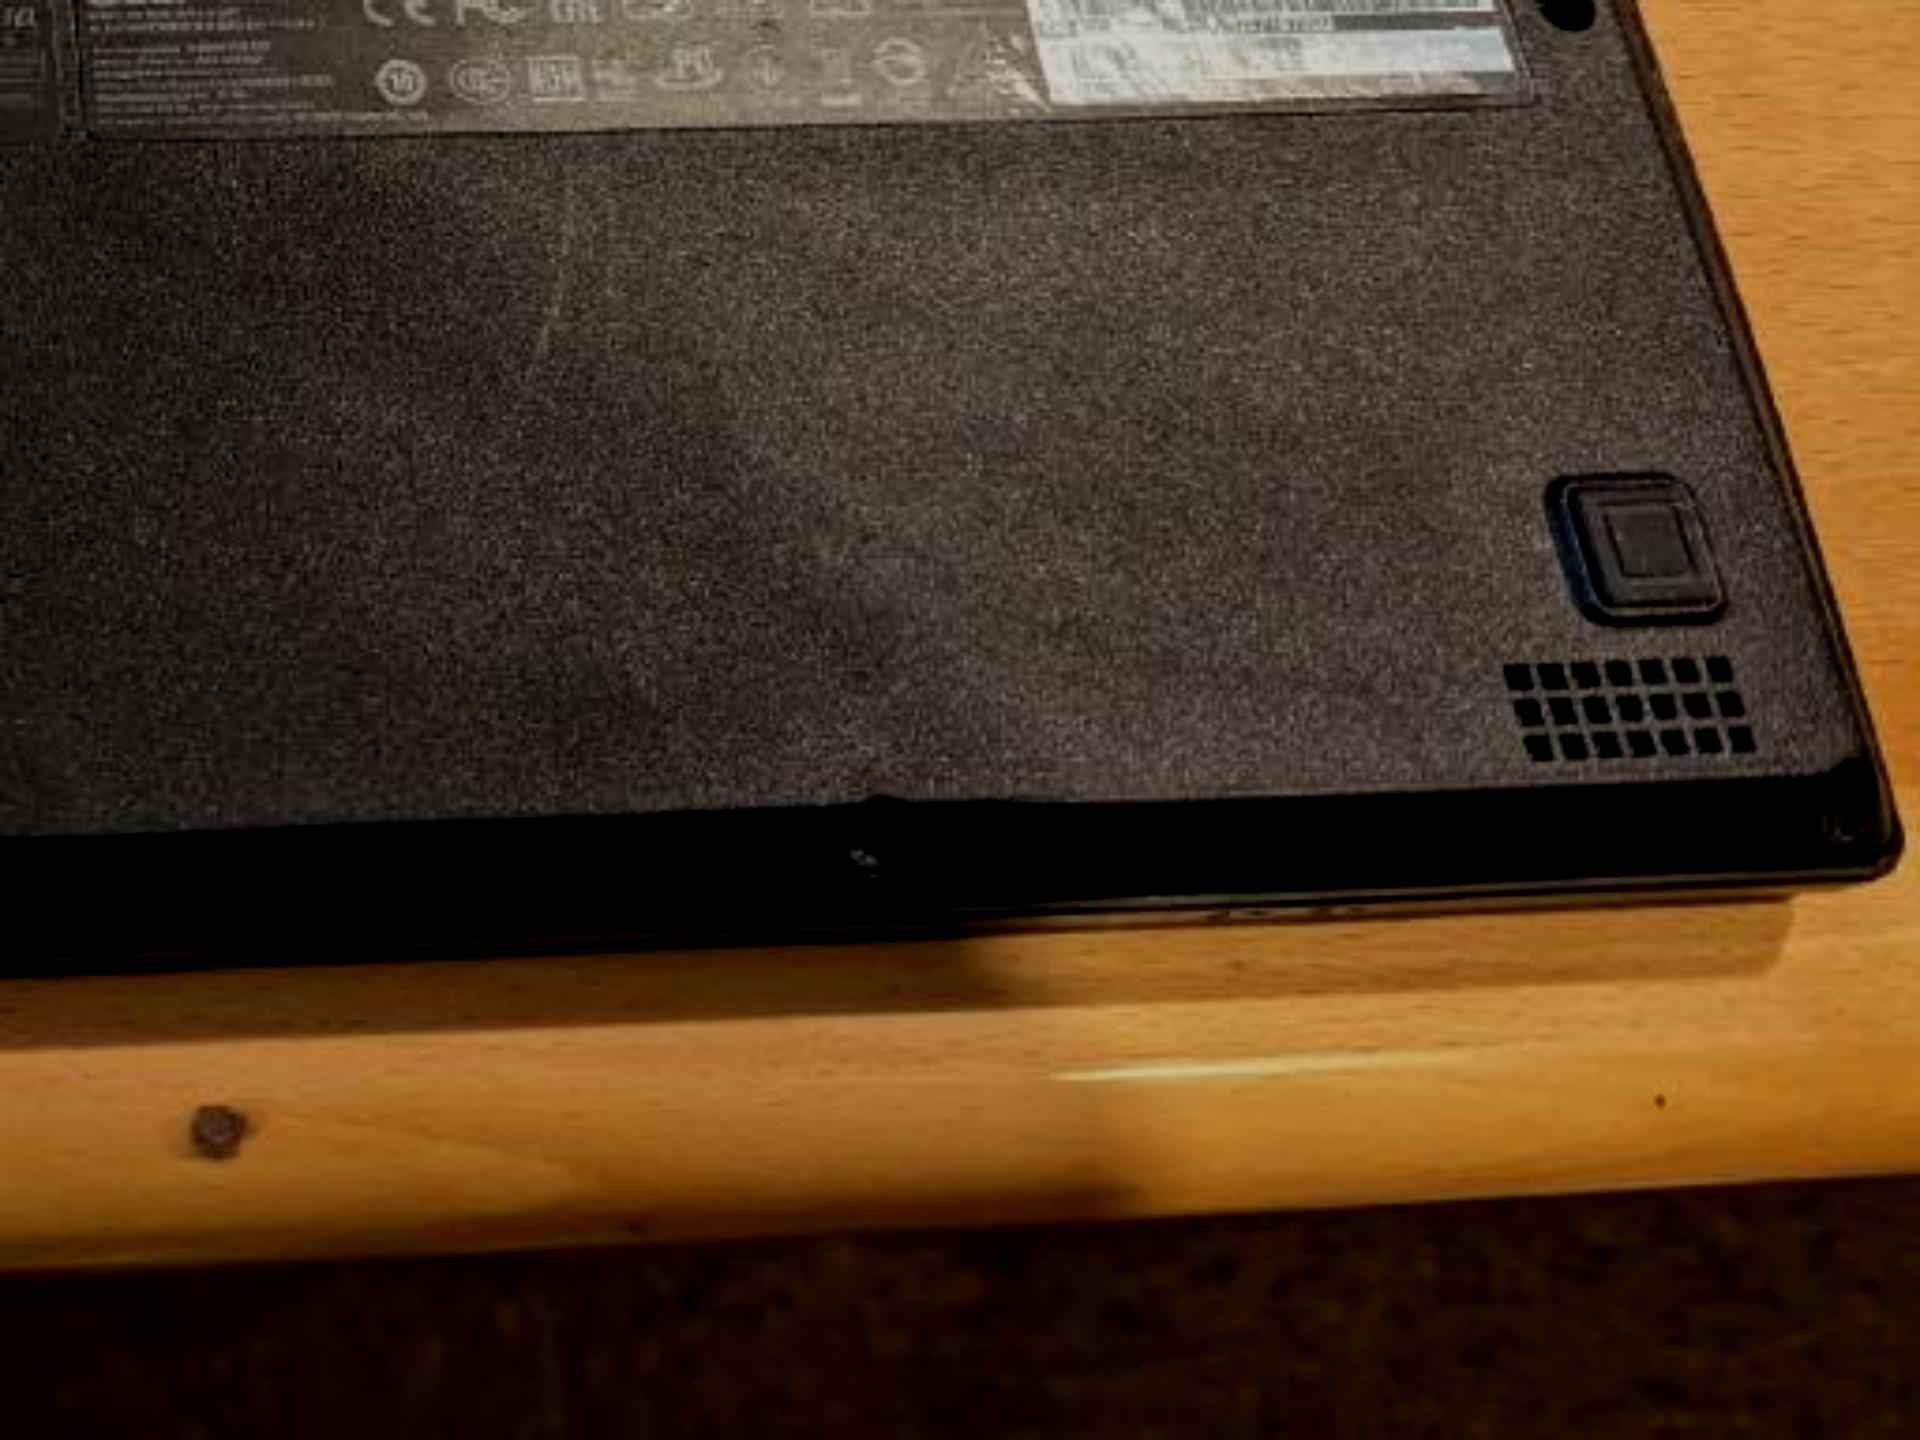scratches: (440, 132, 591, 510)
